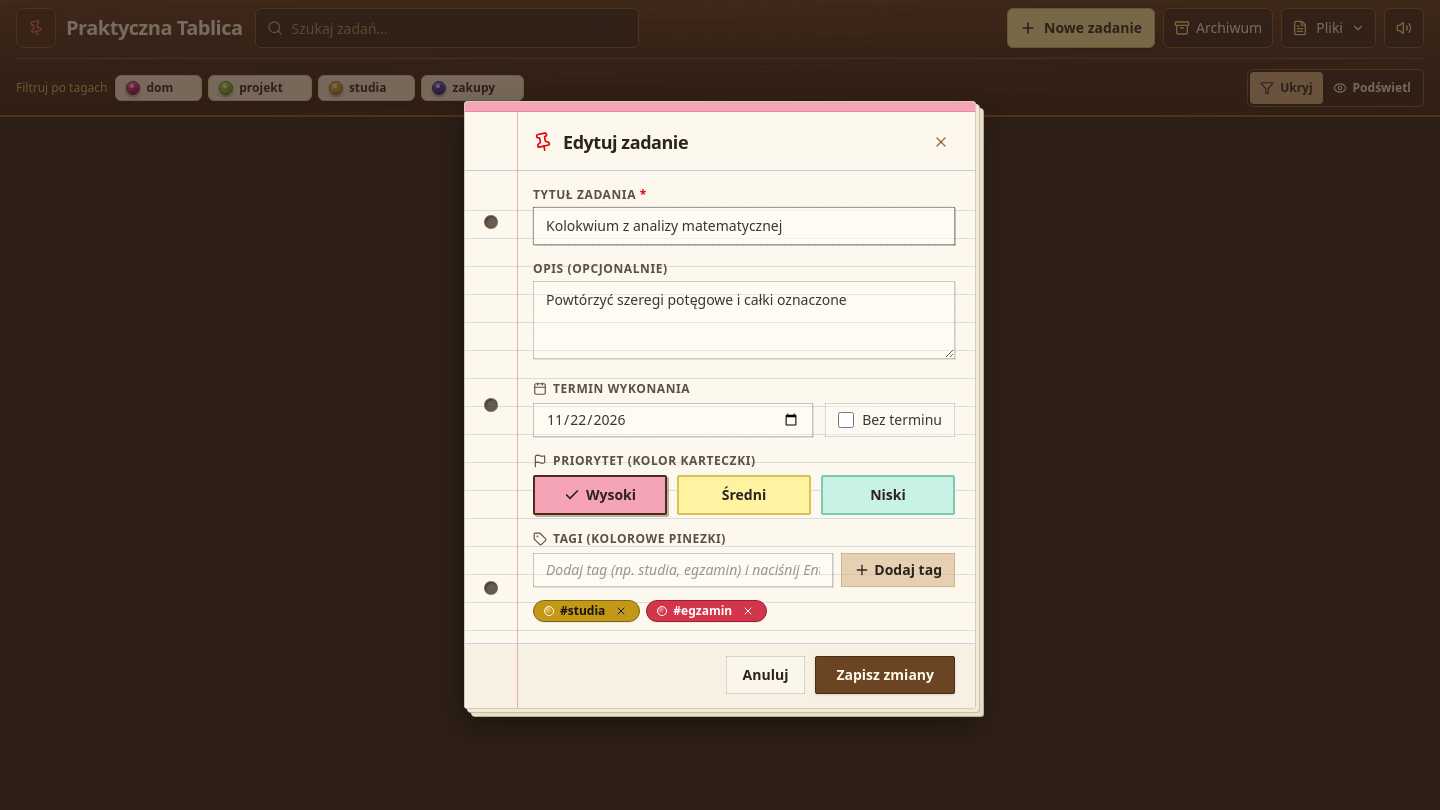
Test: Milestone M3 — TopBar, TaskModal, ContextMenu & Toast › TaskModal component › pre-fills task fields in edit mode, saves changes, and preserves wykonane: true when editing a completed floorBall task
Replace the text in the field with test id "task-input-title" with "Kolokwium z analizy (poprawione)" at (744, 226), box [533,207,955,245]
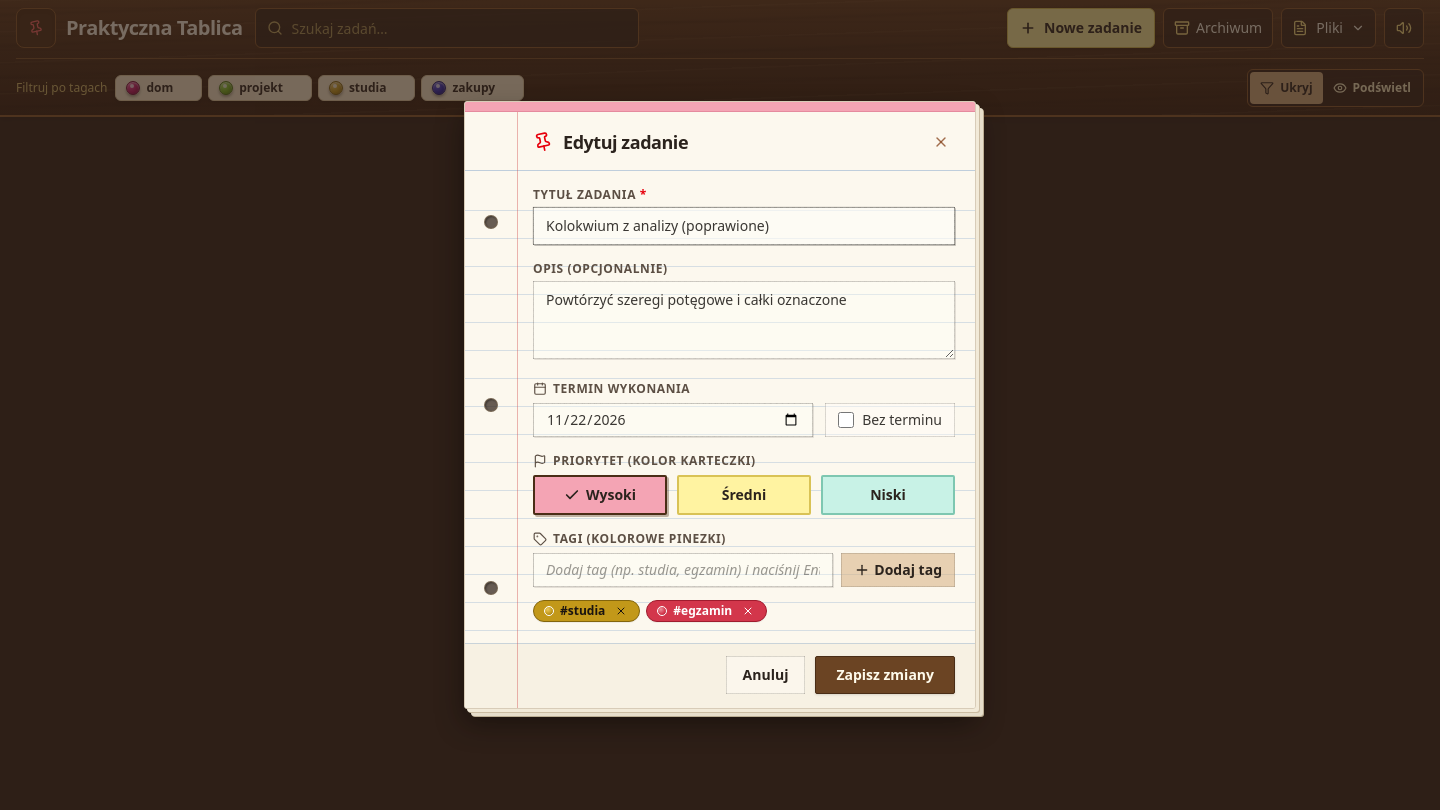
Click the button with test id "task-priority-sredni" at (744, 495), box [677,475,811,515]
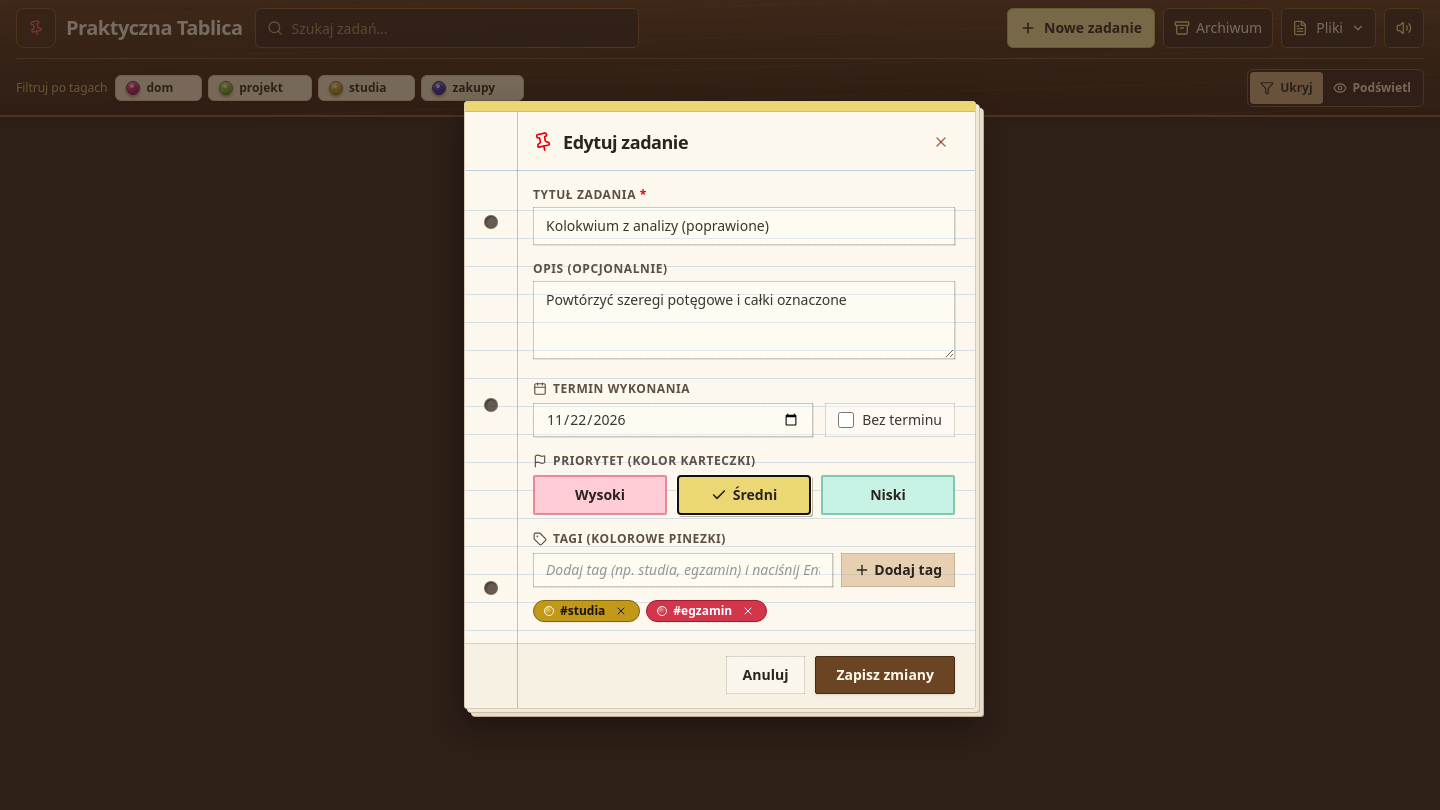
Click the checkbox with test id "task-checkbox-no-deadline" at (846, 420), box [838,412,854,428]
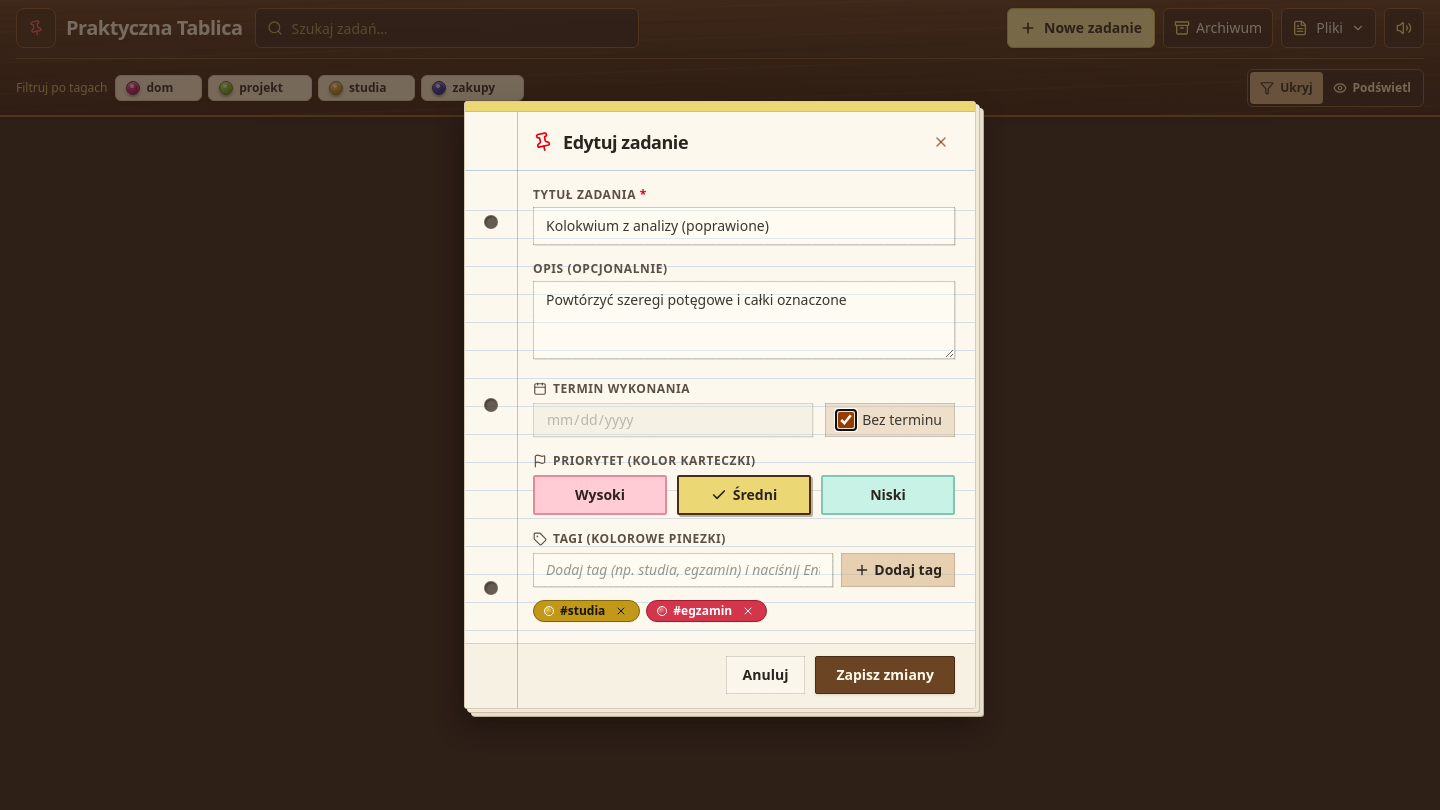
Click the button with test id "task-btn-save" at (885, 675), box [815,656,955,694]
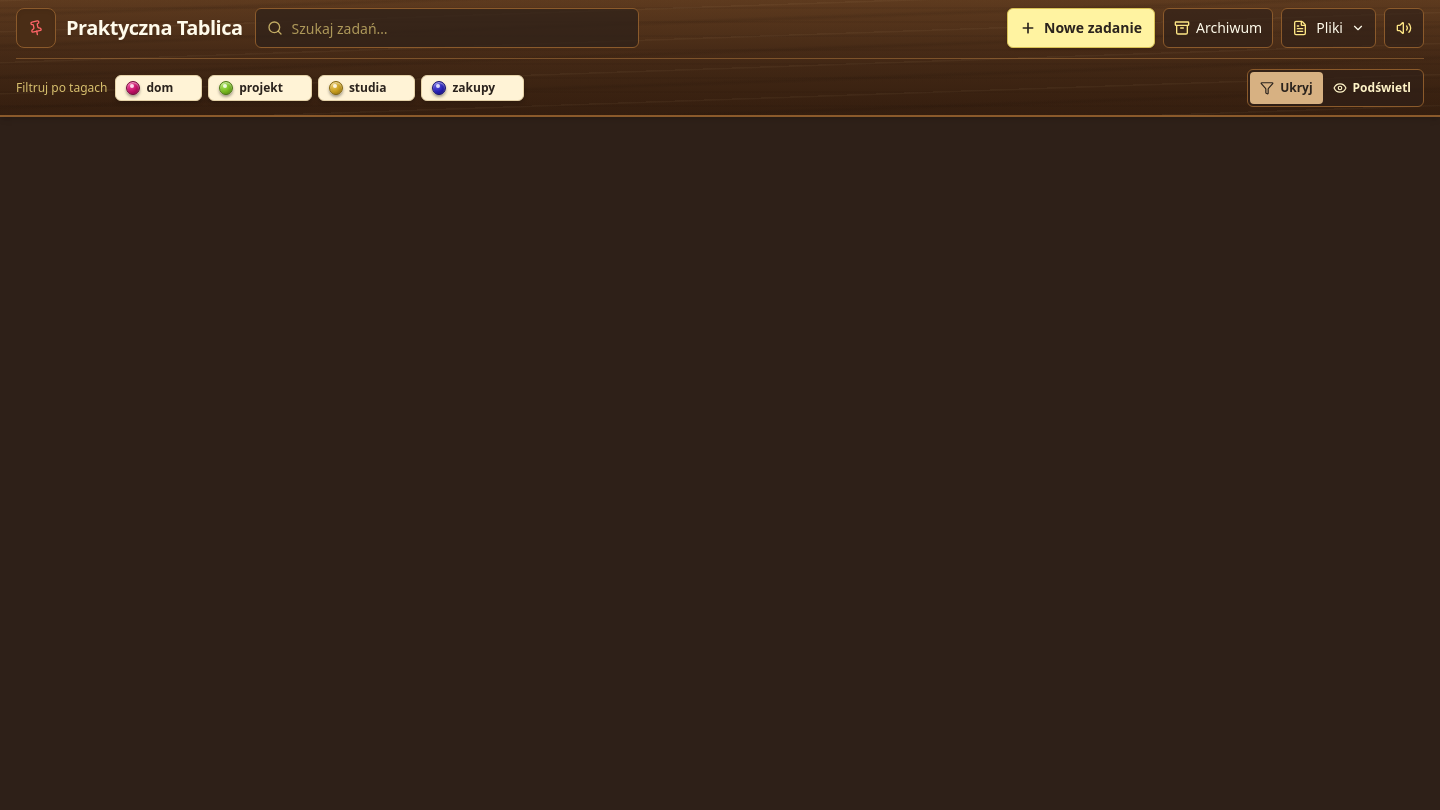
Expected: the dialog with test id "task-modal" is gone
